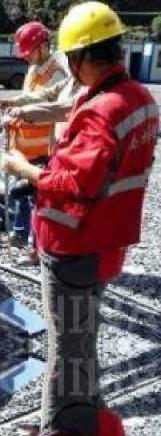boots: (0, 315, 24, 341), (0, 298, 22, 318)
hard-hat: (0, 207, 16, 249)
vest: (0, 209, 60, 261)
